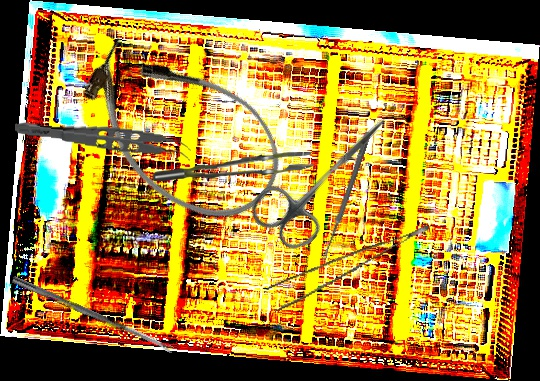Cannula: (57, 13, 306, 248)
Iris Scissors: (243, 91, 410, 260)
Surgical Spoon: (10, 275, 175, 355), (320, 131, 372, 262)
Tissue Forceps: (263, 225, 440, 312), (12, 118, 193, 165), (152, 149, 315, 184)
